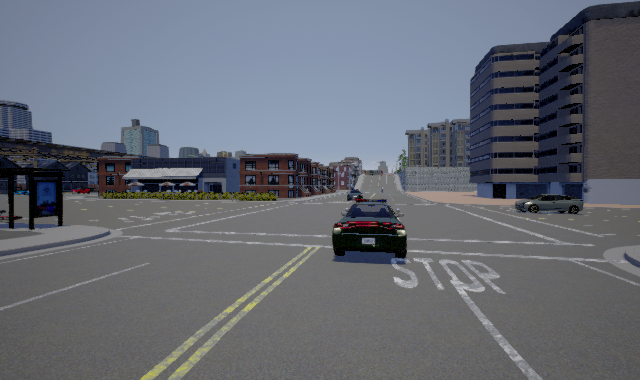vehicle: (332, 189, 407, 259), (515, 194, 584, 214)
